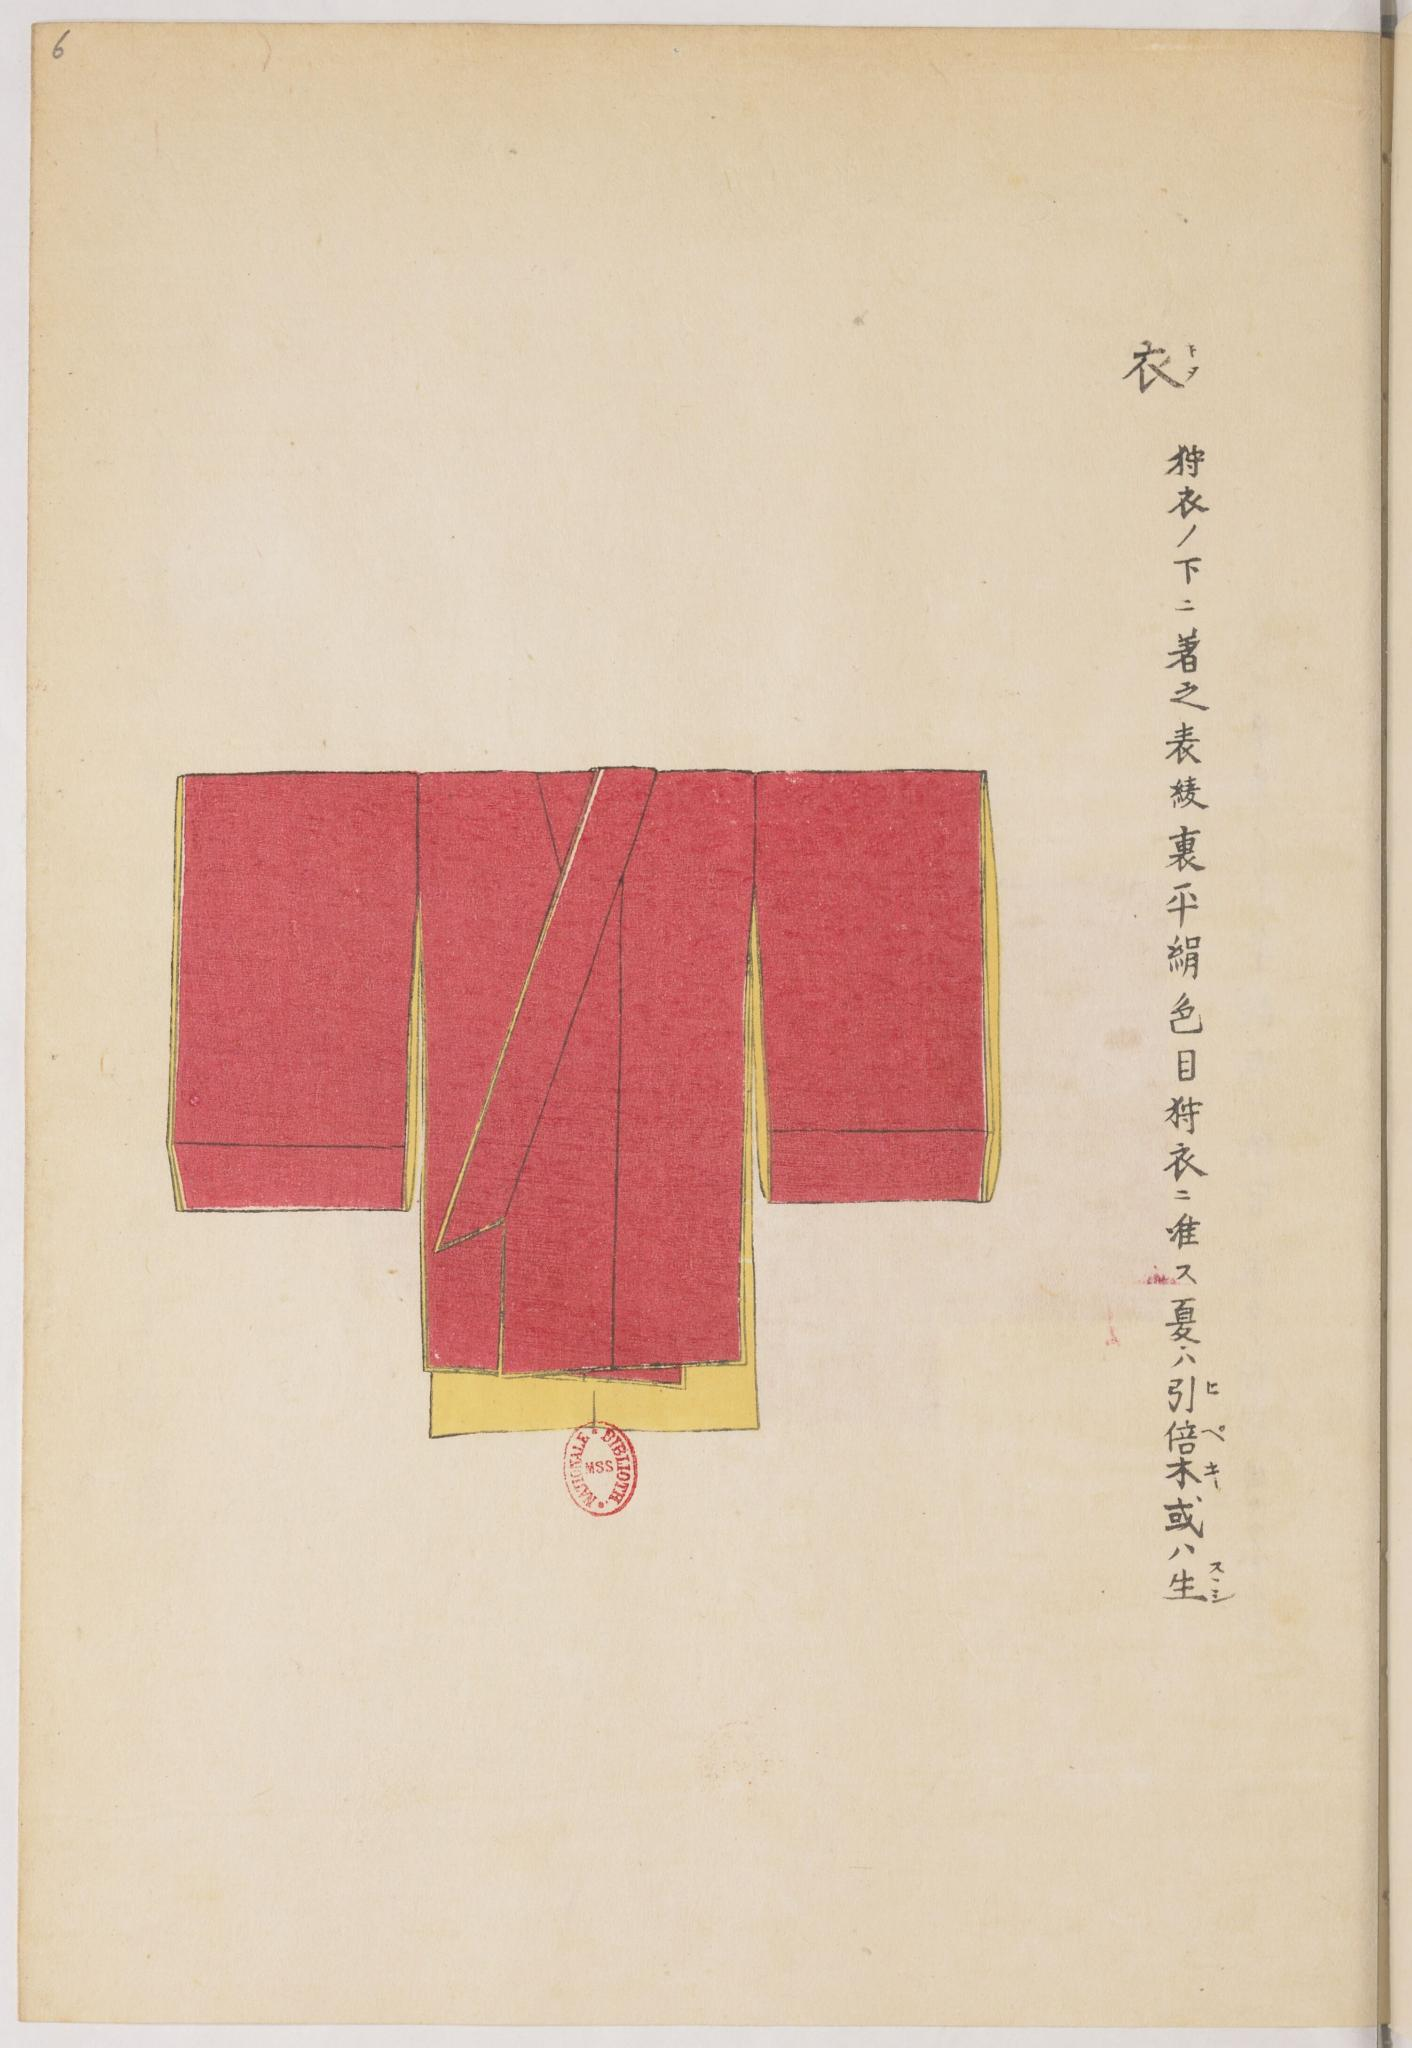MainZone-Character: (1115, 328, 1213, 397), (1166, 1559, 1241, 1614), (1164, 1368, 1225, 1412), (1161, 1454, 1227, 1494), (1163, 1415, 1230, 1452)
MainZone-Ruby: (1203, 1561, 1241, 1608), (1180, 336, 1203, 383), (1200, 1418, 1228, 1446), (1203, 1457, 1224, 1491), (1202, 1369, 1225, 1397)
